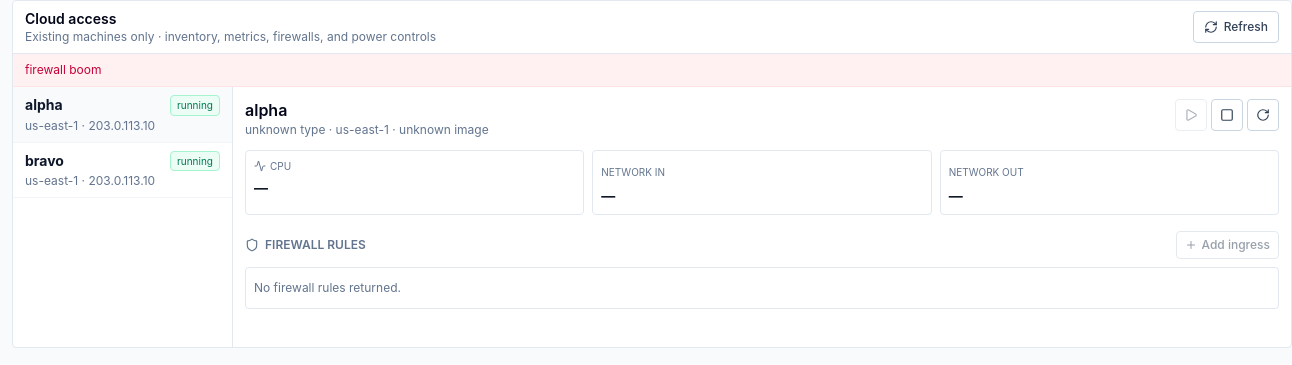
Test: CloudMachinesPanel error state › clears a previous machine error when switching to a machine whose details load
Check: the text "firewall boom" is shown, box [13,54,1291,87]
Click the button "bravo running us-east-1 · 203.0.113.10" at (122, 170), box [13,142,232,198]
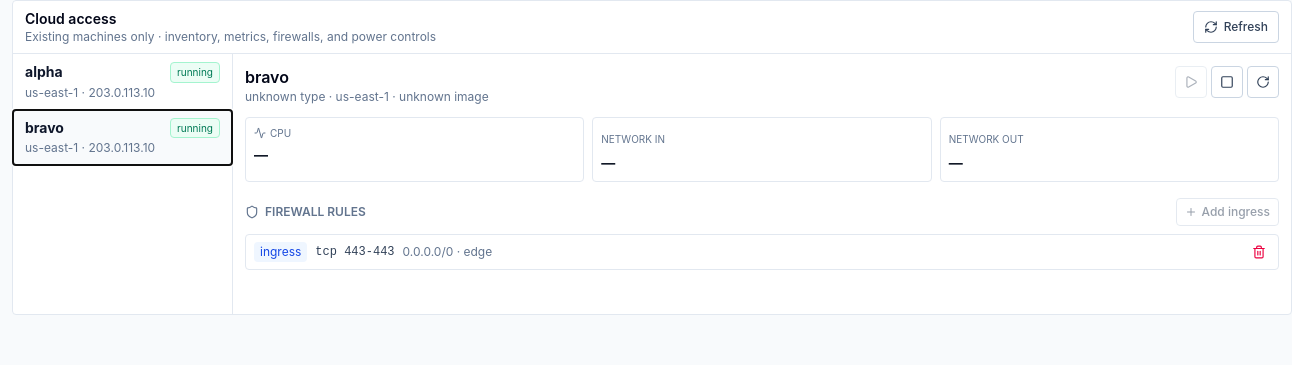
Check: the text "firewall boom" is gone
Check: the text "0.0.0.0/0 · edge" is shown, box [403,244,492,259]
